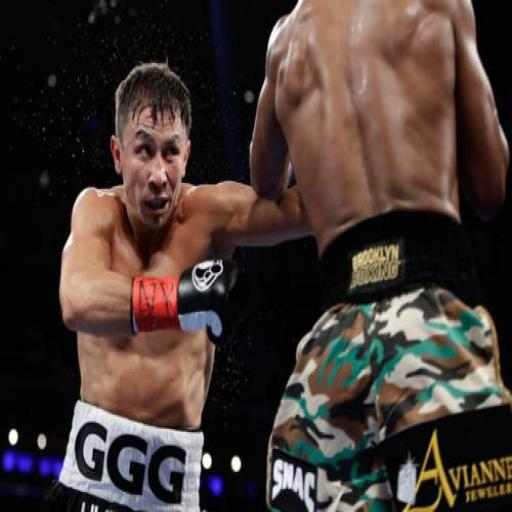boxing: (248, 0, 511, 510), (43, 58, 313, 510)
